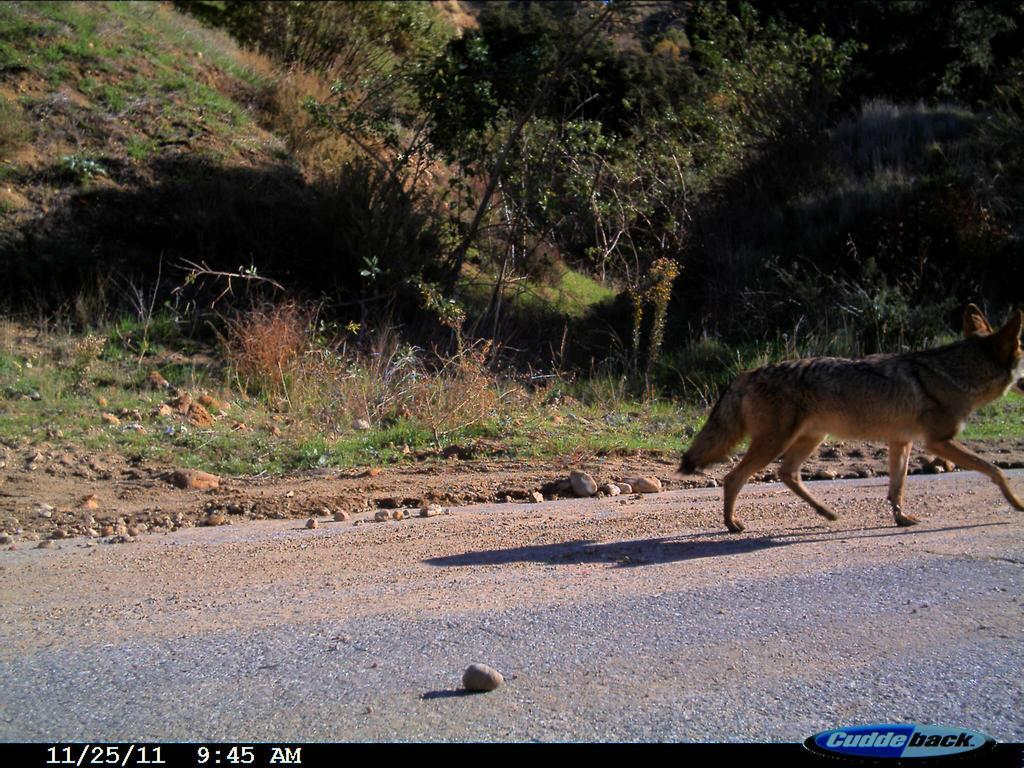coyote: (676, 297, 1022, 537)
